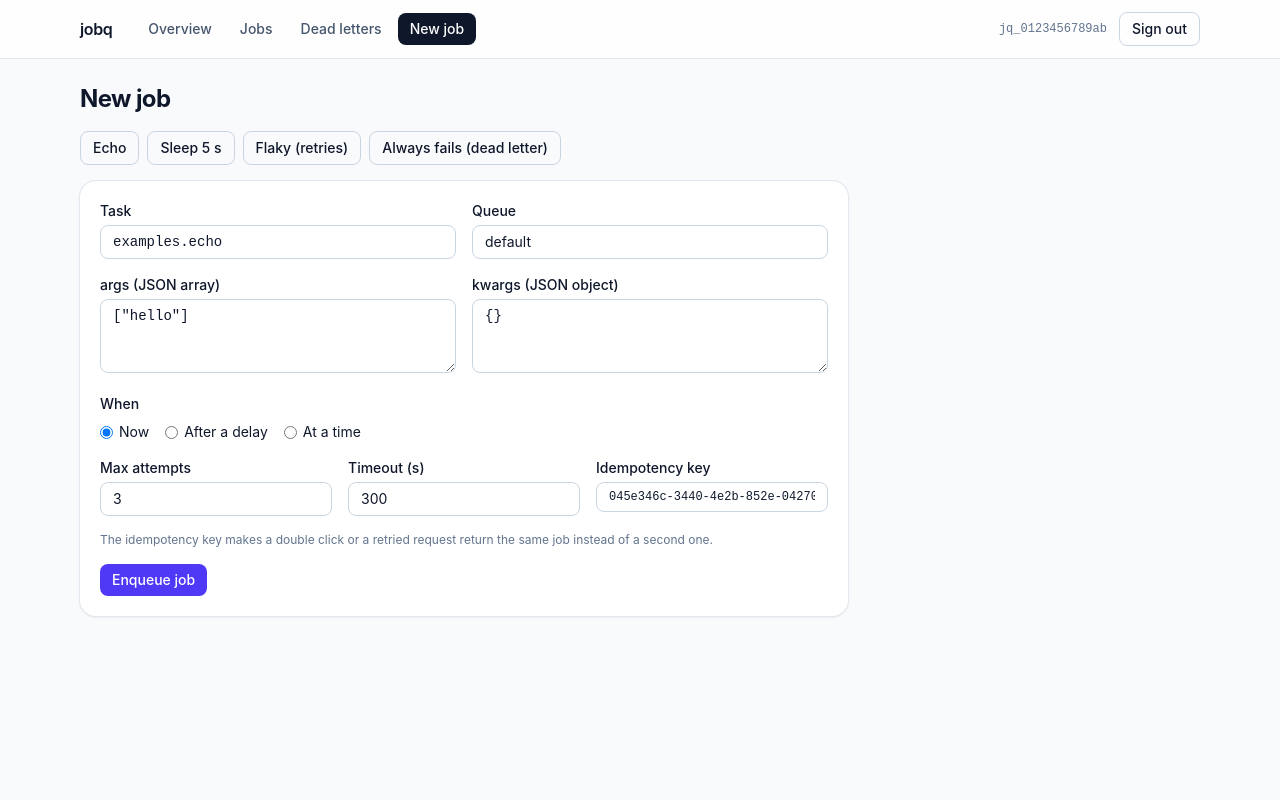
Test case: NewJobPage › shows the API's validation error
Replace the text in the field labelled "Task" with "bad.task" at (278, 242), box x1=100 y1=225 x2=456 y2=259
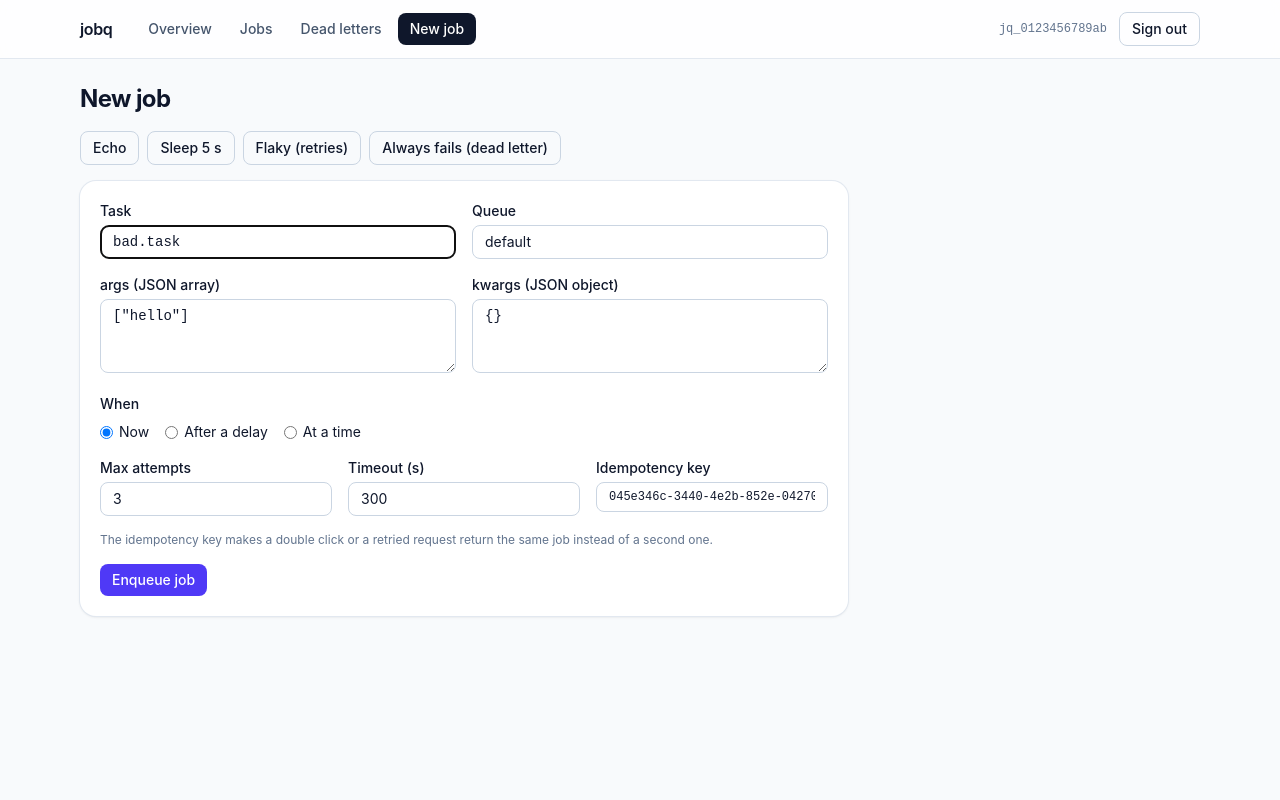
Click the button "Enqueue job" at (154, 580), box x1=100 y1=564 x2=207 y2=596
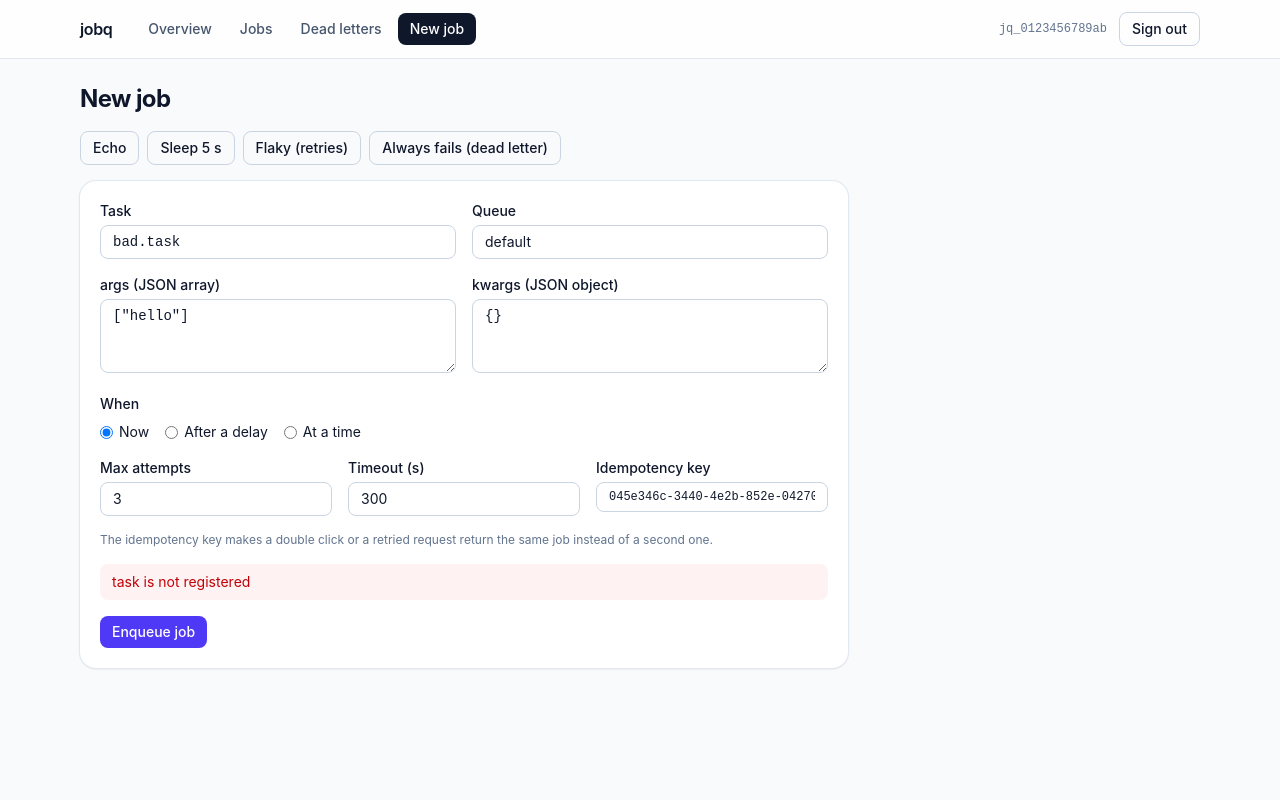
Expected: the message reads "task is not registered", x1=112 y1=573 x2=250 y2=590
